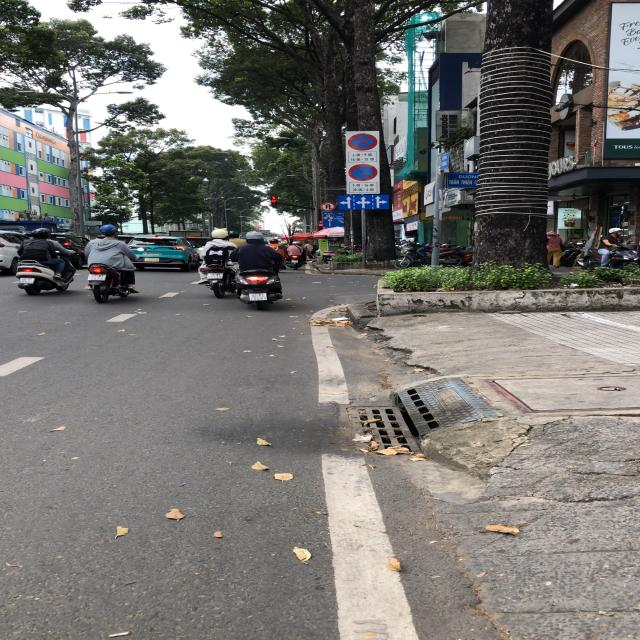Bien bao cam do xe: (346, 161, 385, 183)
Bien bao cam dung xe va do xe: (346, 131, 376, 153)
Bien bao cam quay dau xe: (318, 200, 338, 210)
